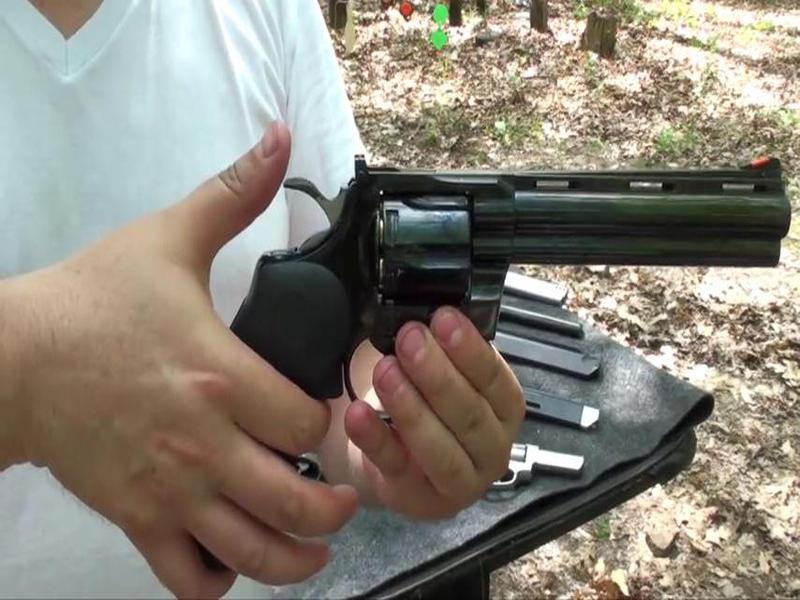Revolver: (247, 141, 796, 386)
